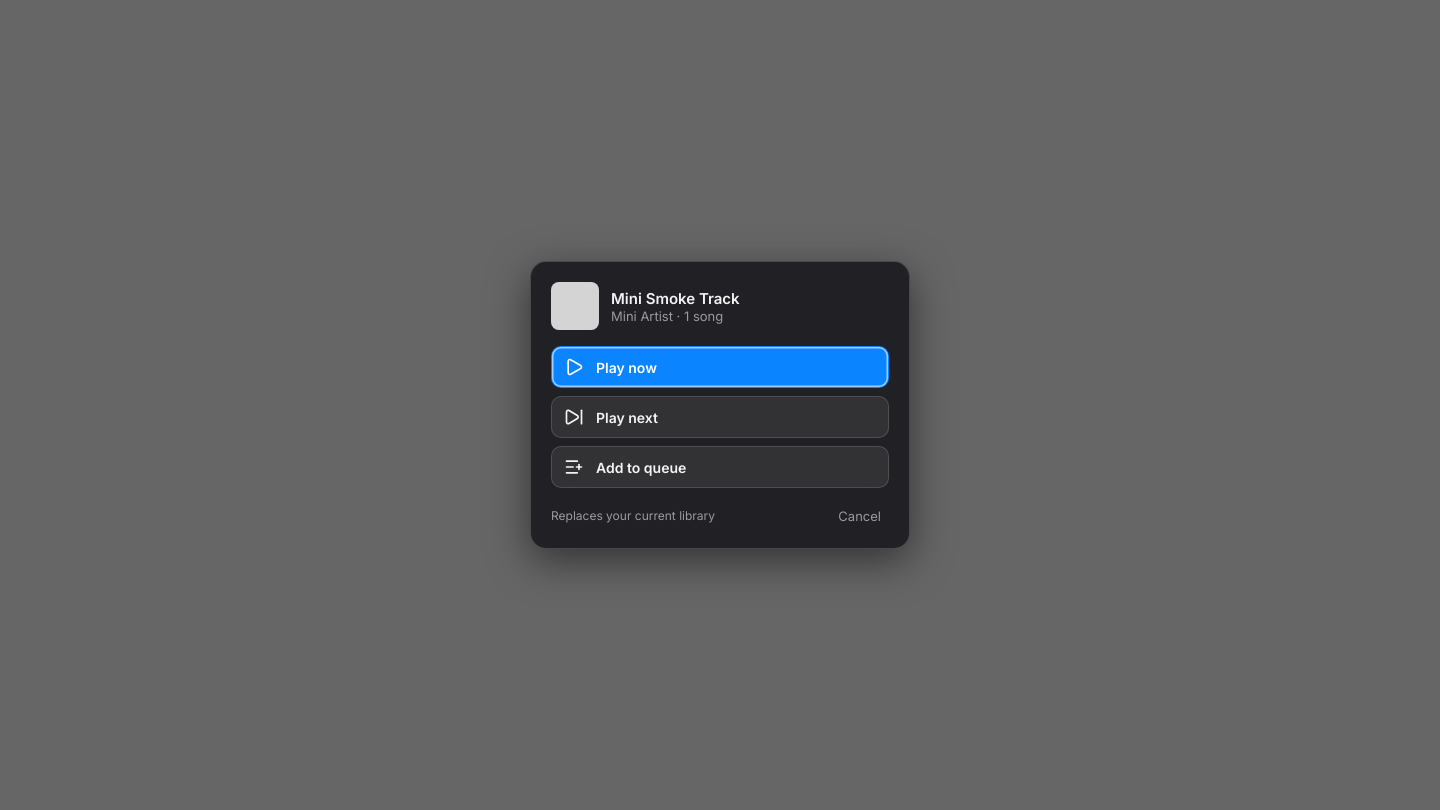
AddTracksDialog › the hint starts with what Play does, follows the pointer, and goes back when it leaves
Hover over the button "Play next".
mouse_move(627, 417)  # box [551,396,889,438]
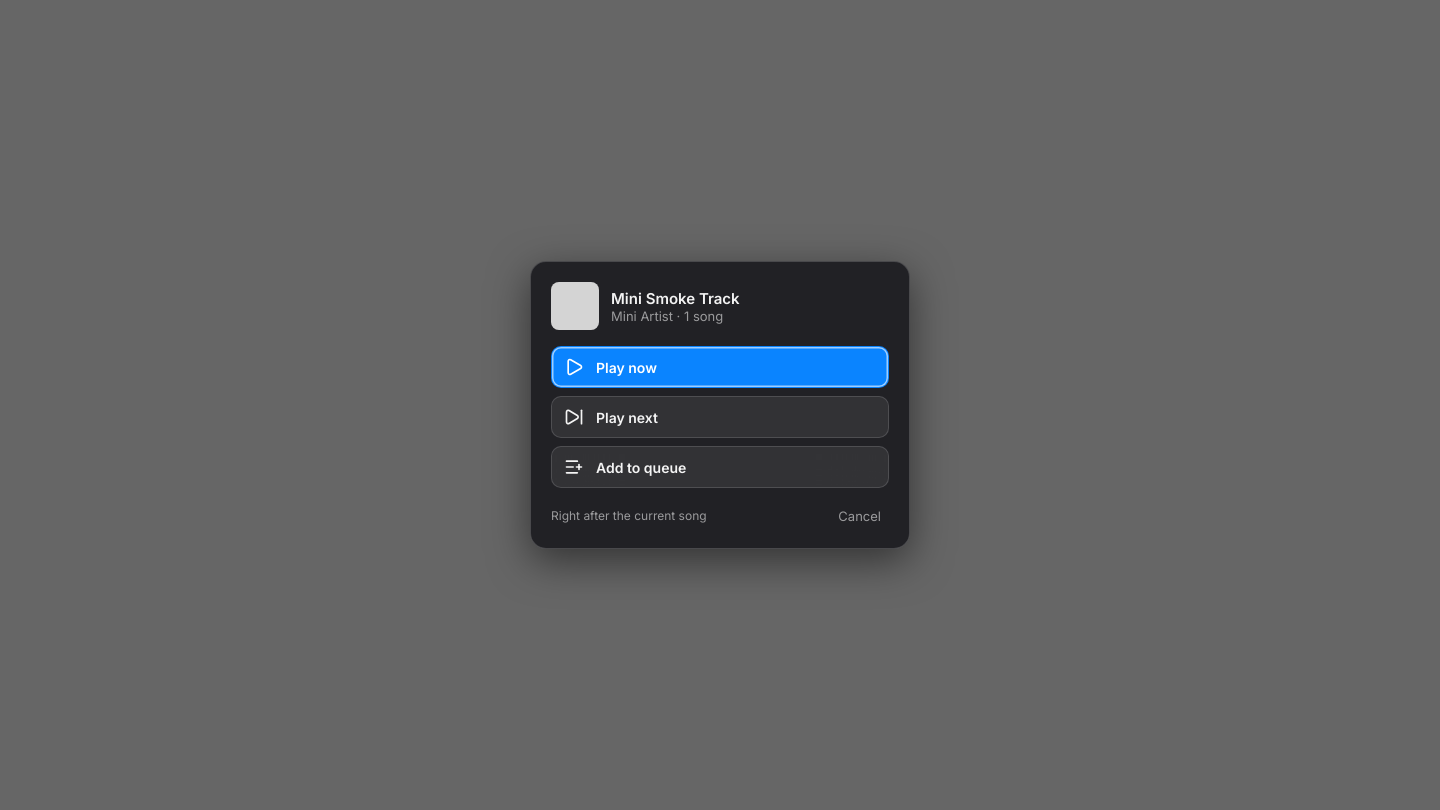
Expected: the text with class "add-dialog-hint" reads "Right after the current song", [551,508,707,523]
Hover over the button "Add to queue".
mouse_move(641, 467)  # box [551,446,889,488]
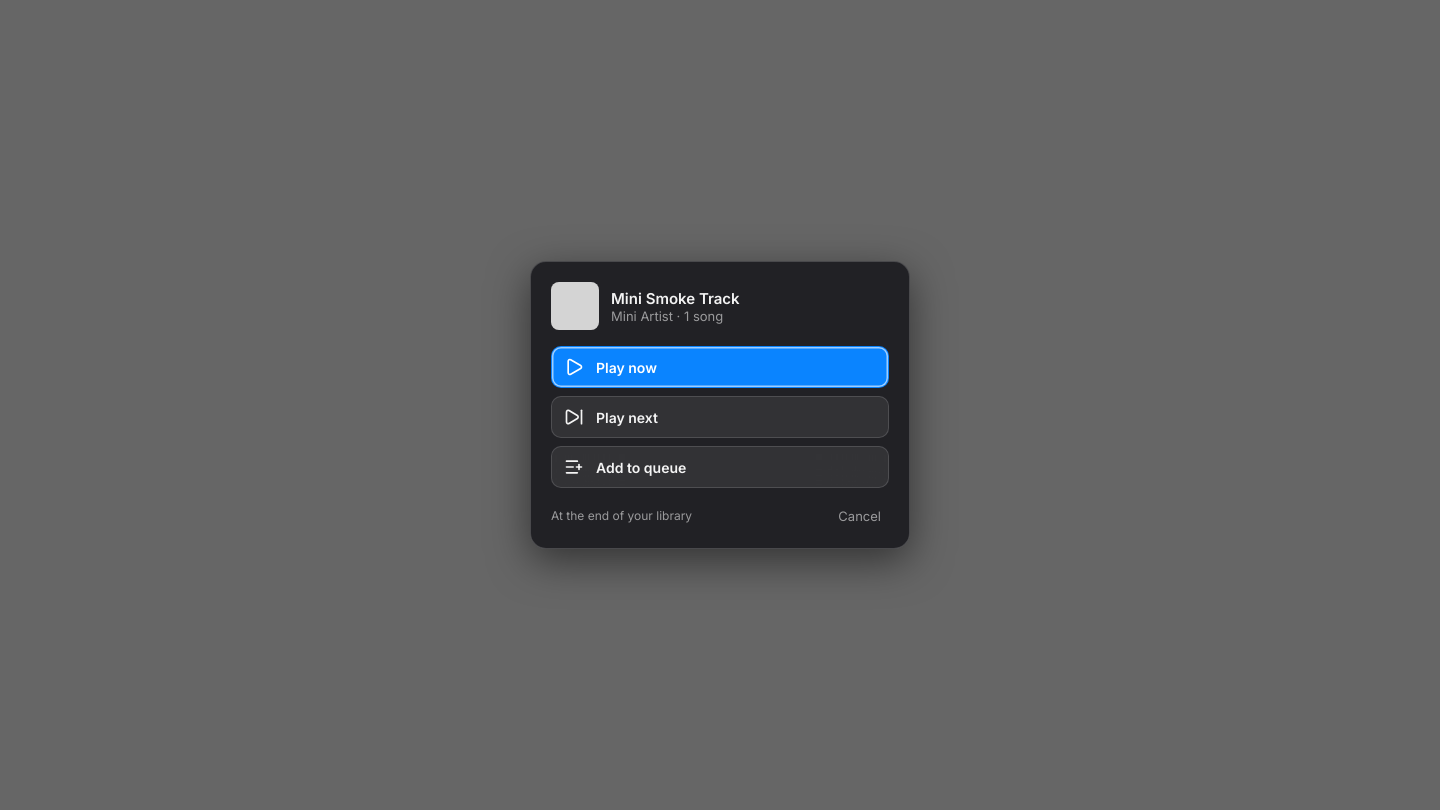
Expected: the text with class "add-dialog-hint" reads "At the end of your library", [551,508,692,523]
Move the pointer off the button "Add to queue", box [551,446,889,488]
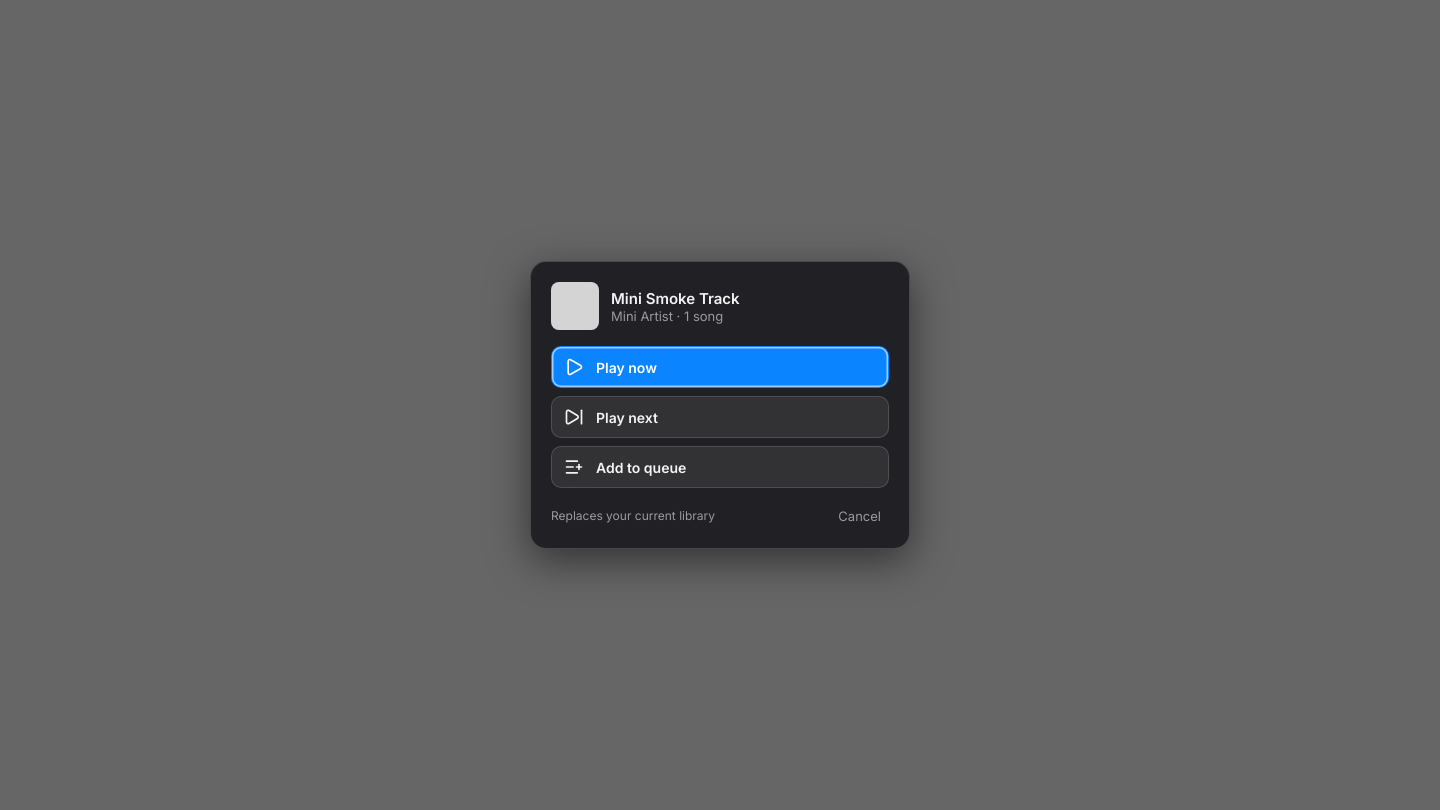
Expected: the text with class "add-dialog-hint" reads "Replaces your current library", [551,508,715,523]
